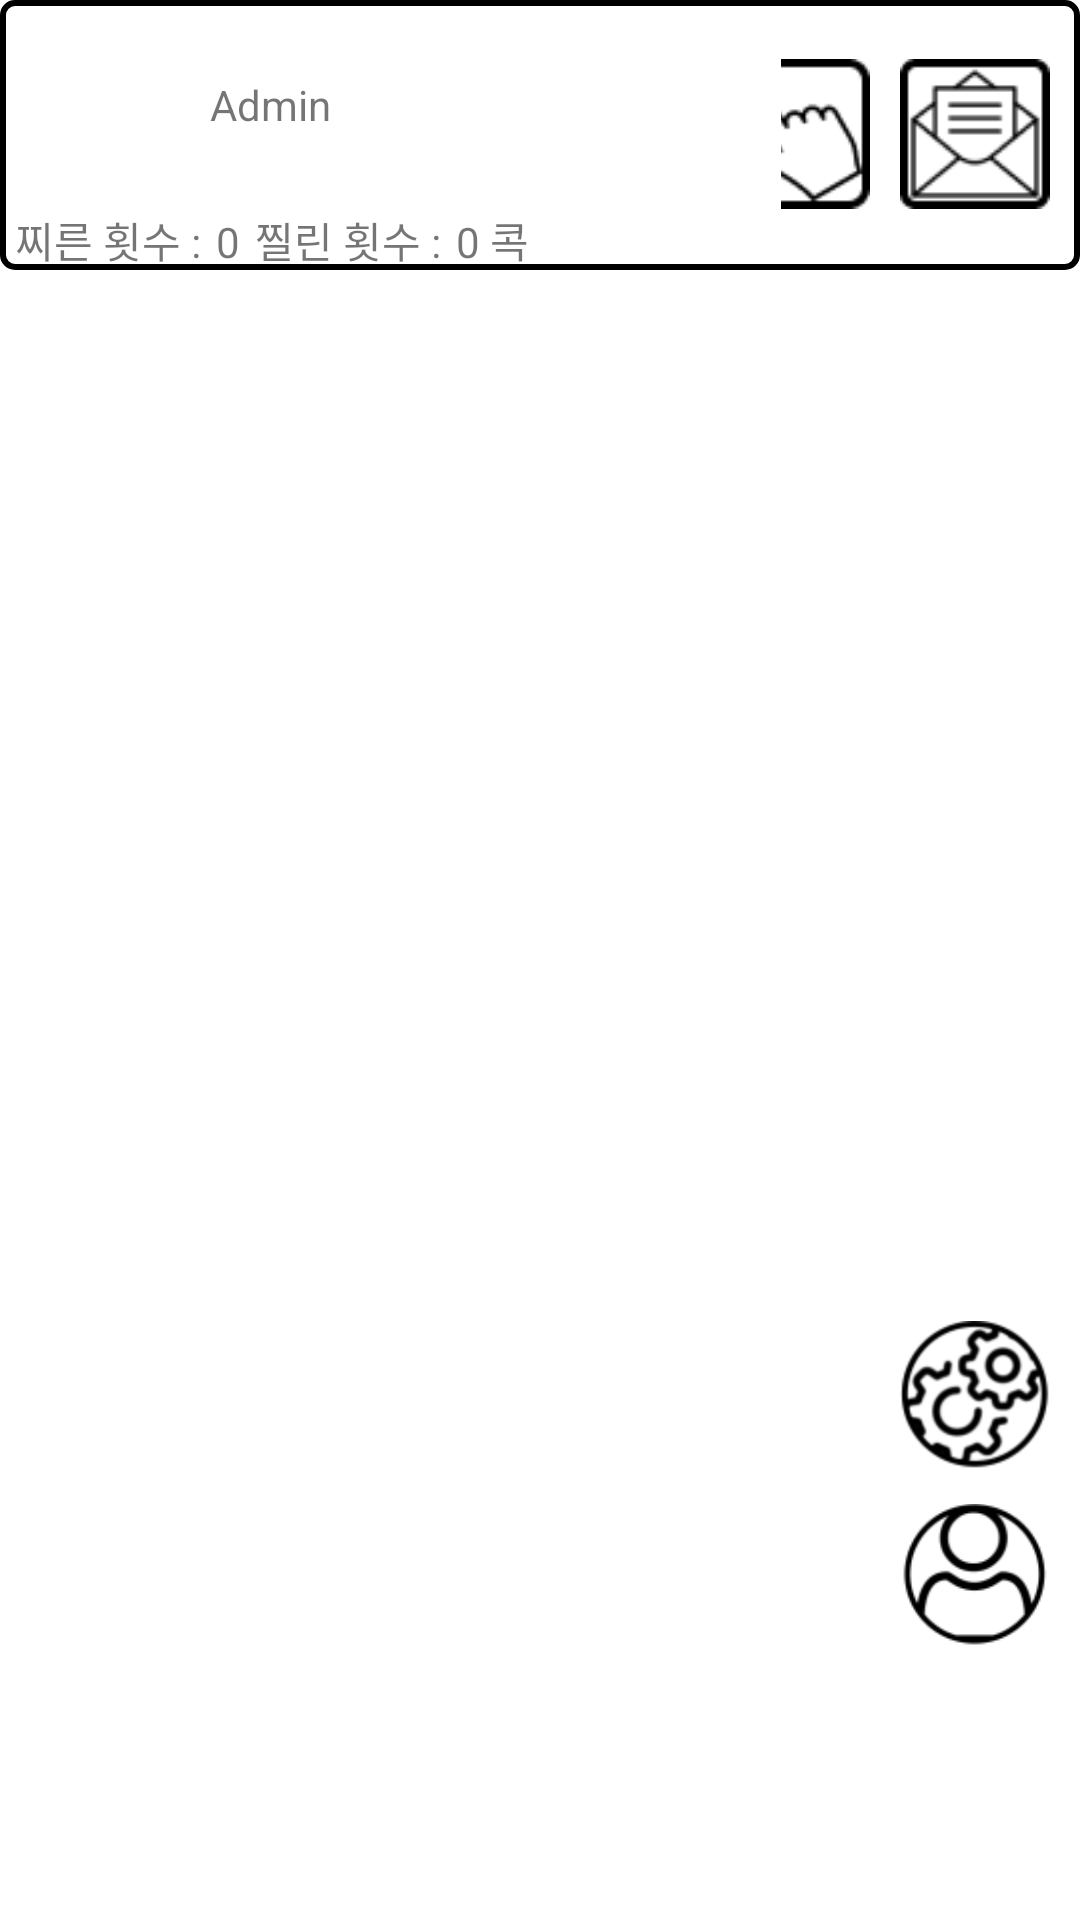

Named icons in this screenshot (1080px x 1920px) and their centers, point (x, y):
friend: point (974, 1574)
setting: point (975, 1394)
